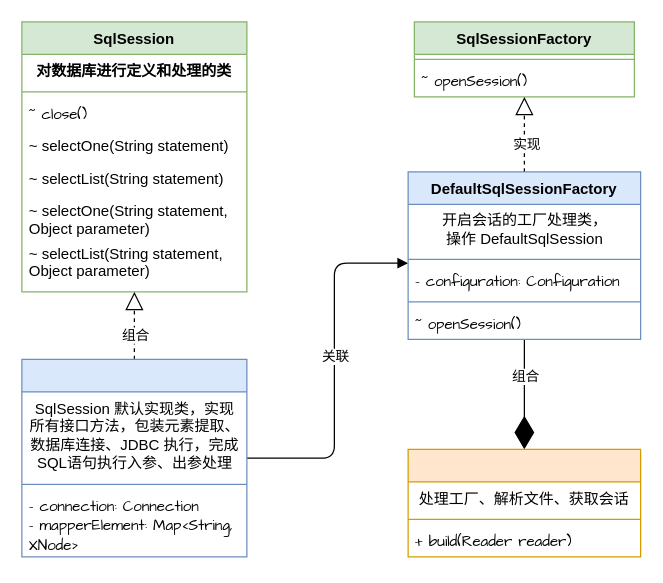
This 663x583 diagram has some shape labels left out. Each missing label, with the box of its shape:
DefaultSqlSession: (21, 358, 247, 557)
SqlSessionFactoryBuilder: (407, 448, 641, 557)
